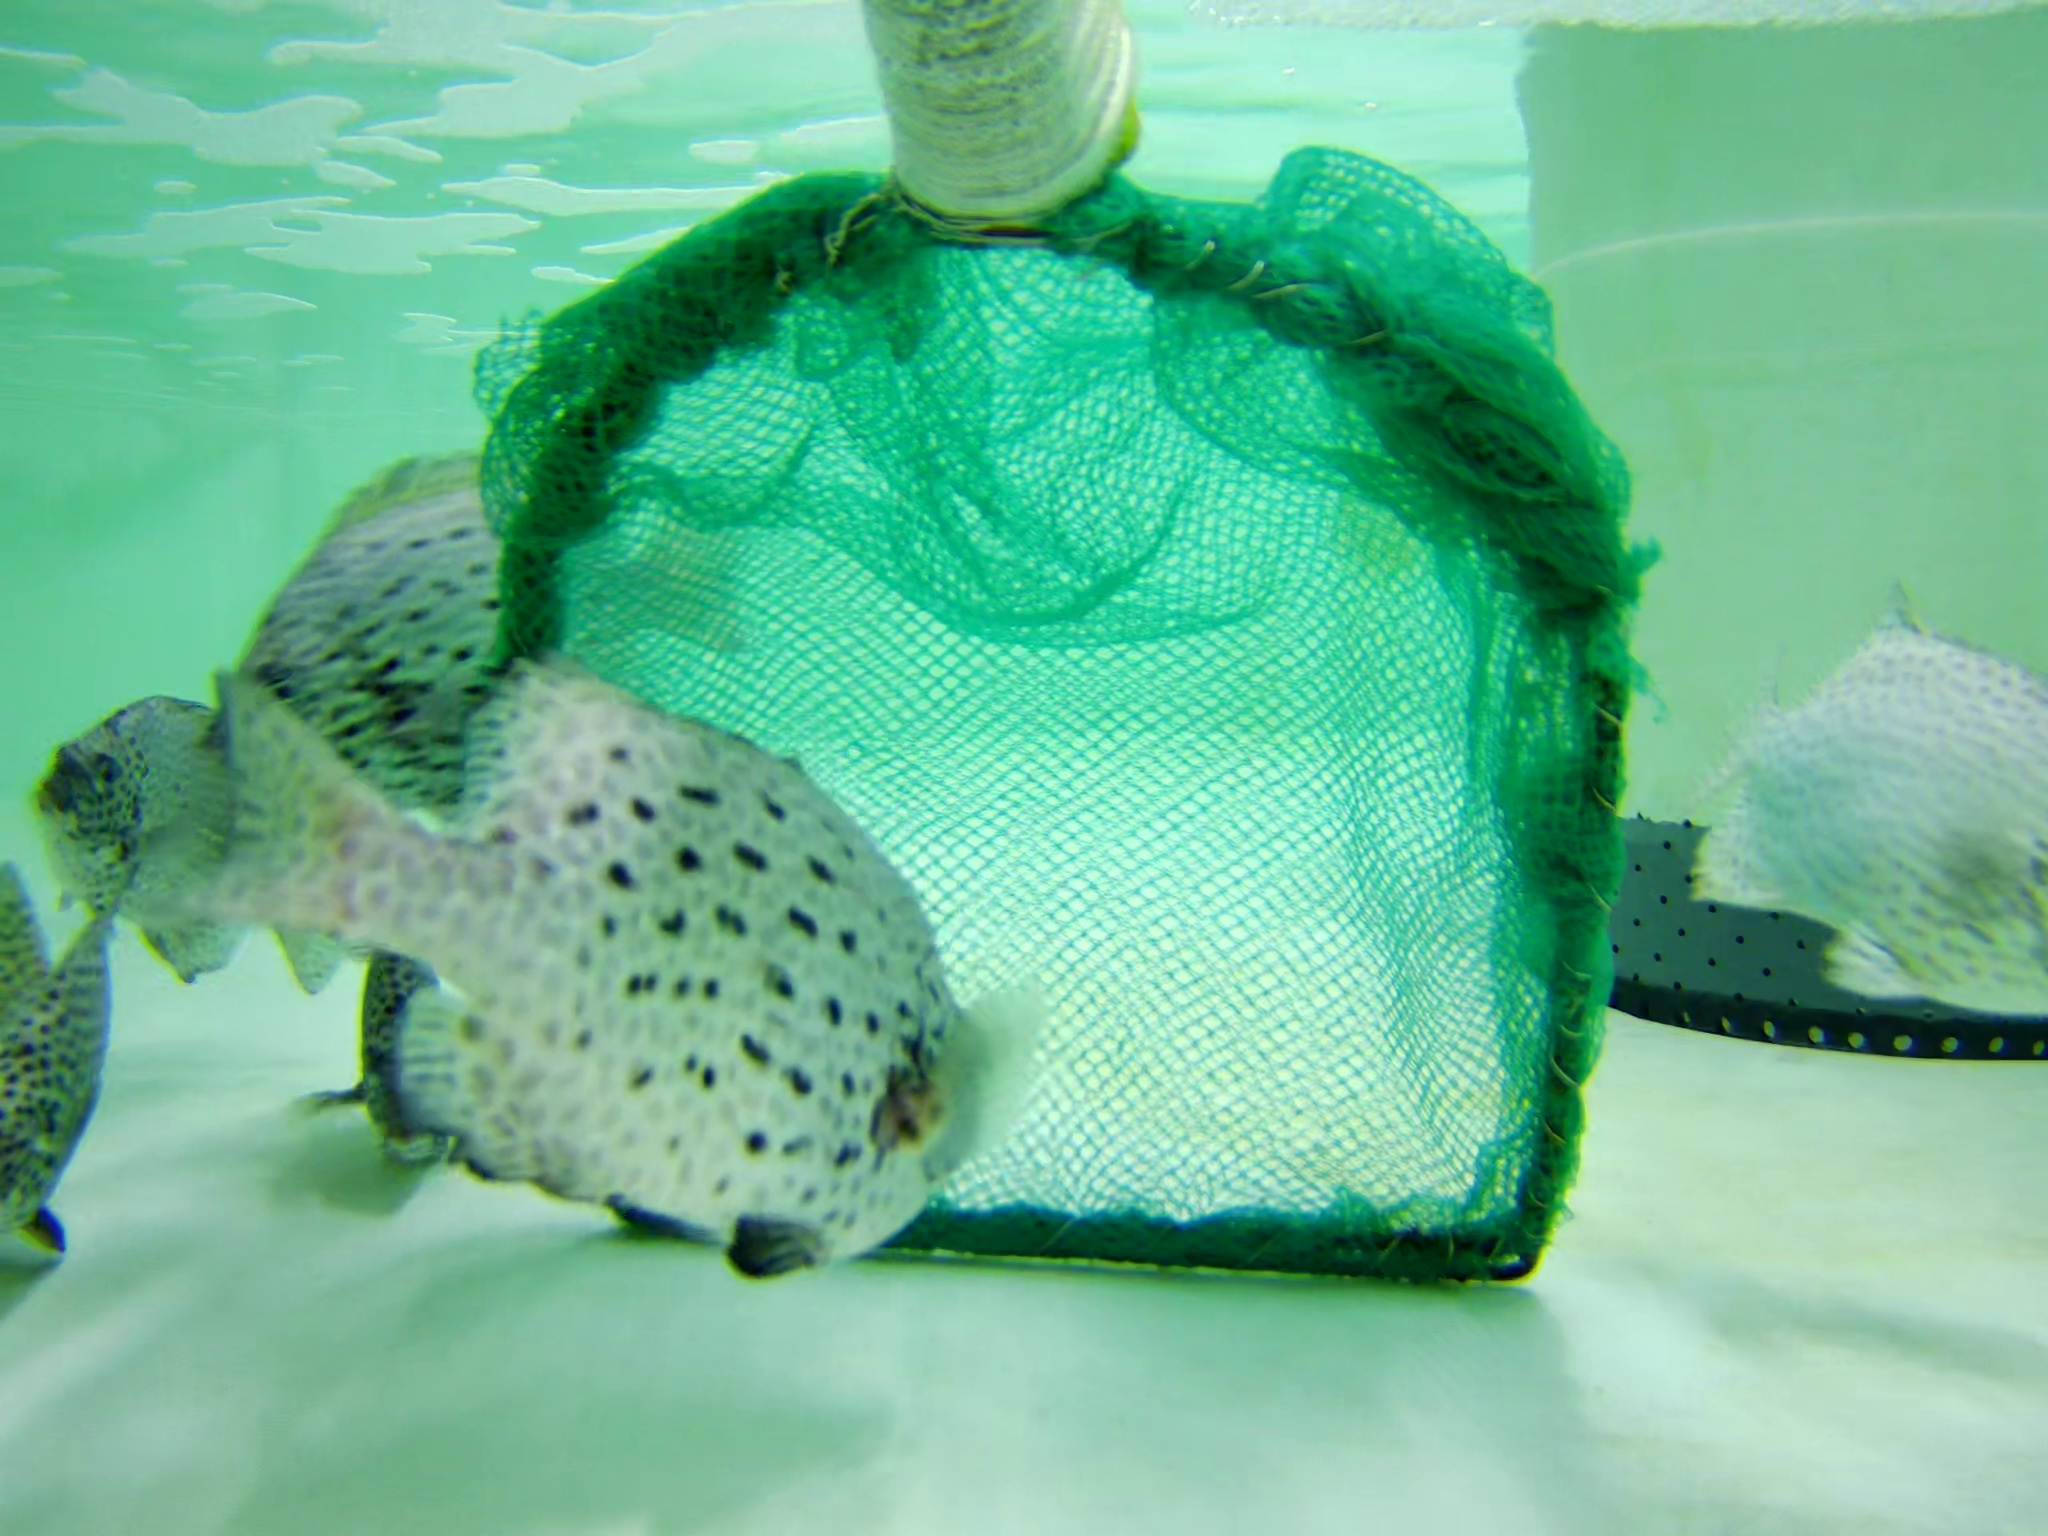fish: (227, 662, 998, 1254), (218, 444, 753, 779), (1679, 587, 2048, 1033), (35, 691, 335, 973), (2, 844, 129, 1292), (340, 915, 463, 1196)
